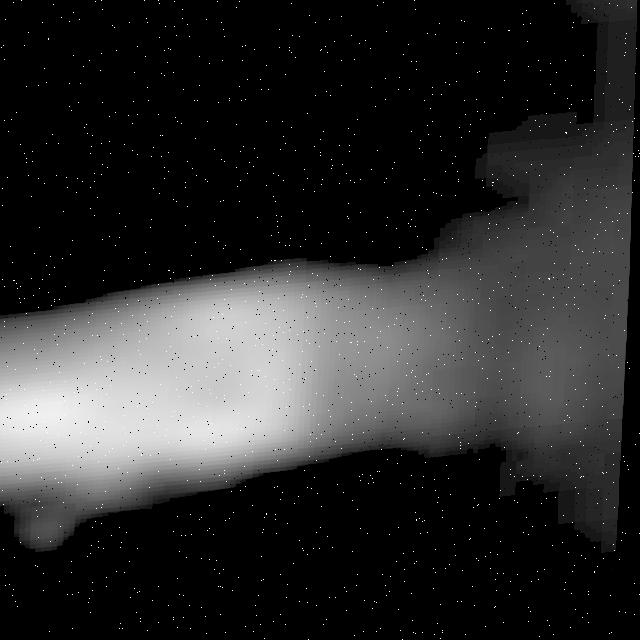person: (1, 218, 470, 547)
